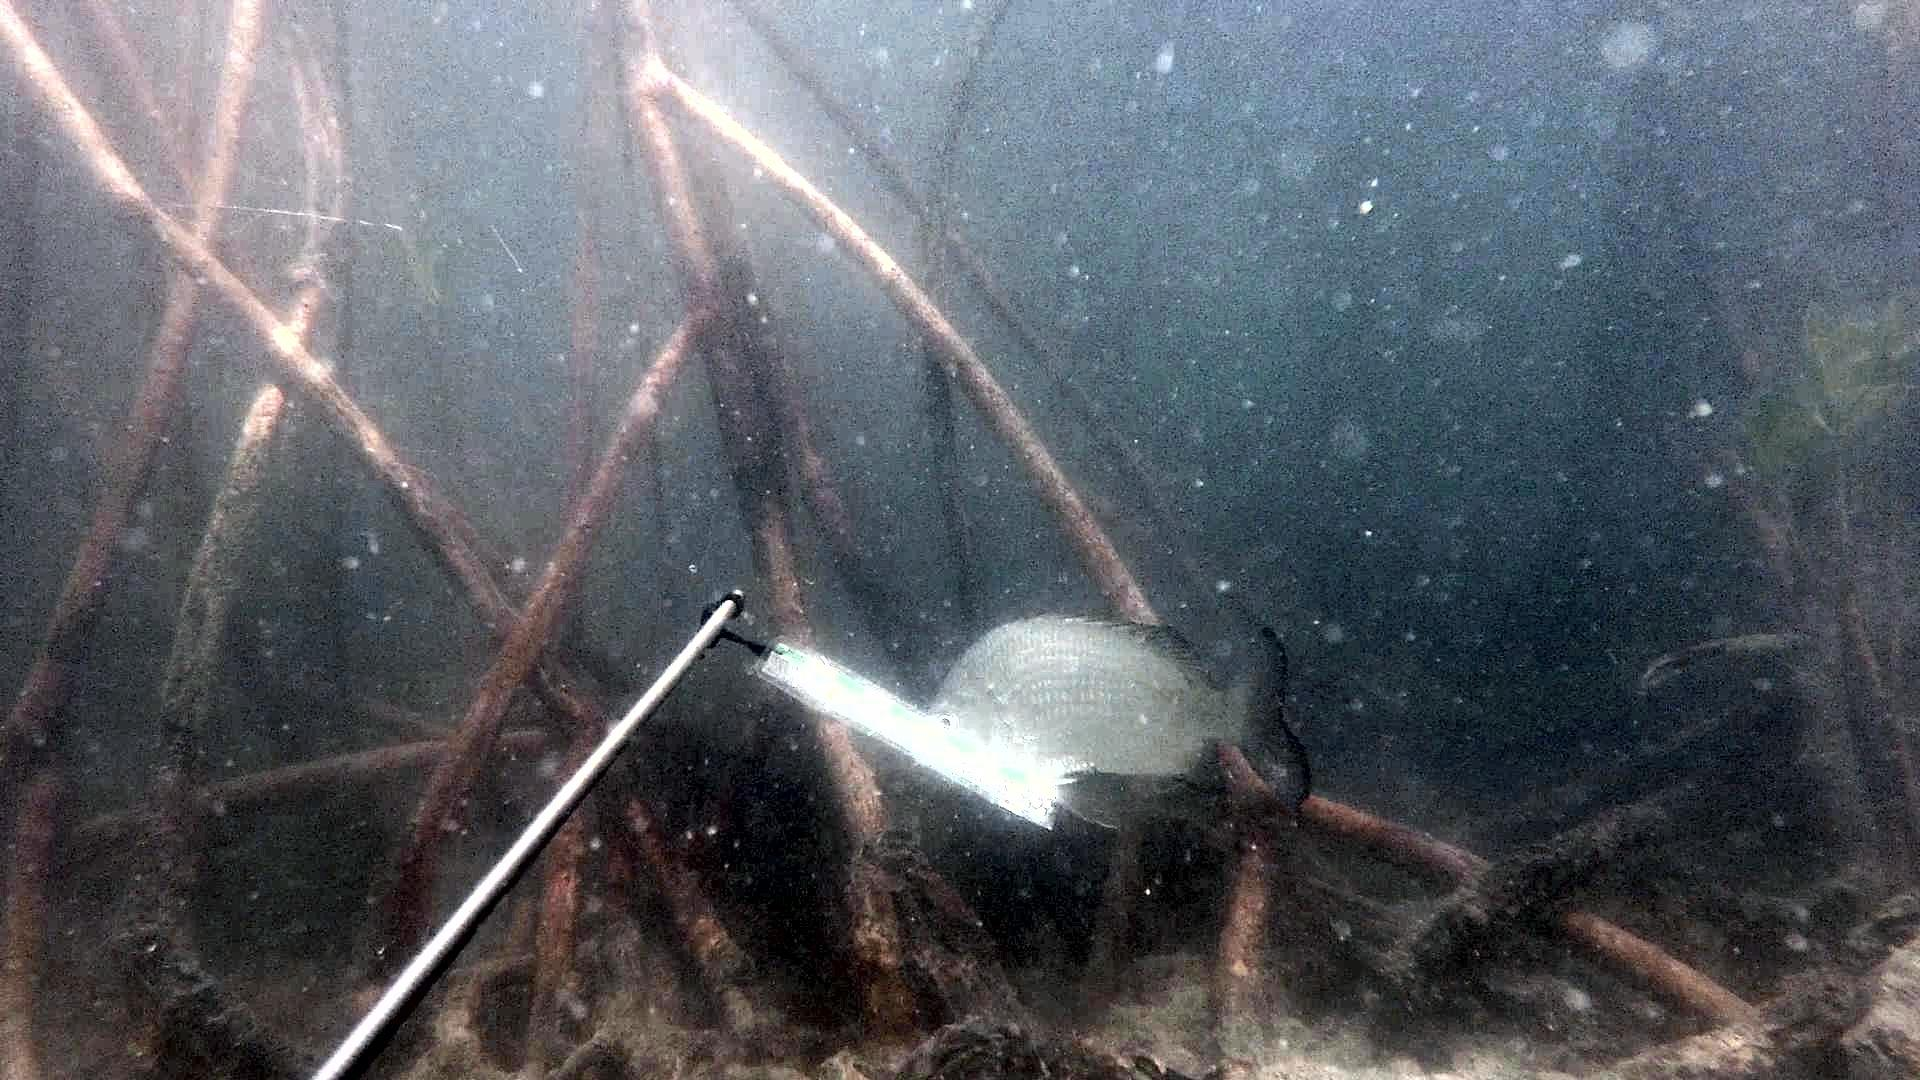acanthopagrus palmaris: (906, 605, 1323, 839)
